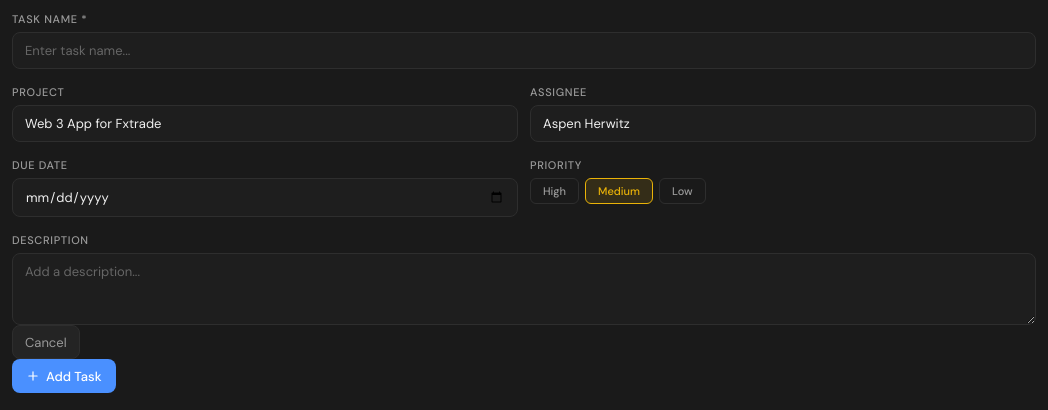
Scenario: AddTaskModal — reset-on-close when the modal DOM never unmounts › resets the form when closed and immediately reopened for the same create target
Type "Draft that should not persist" into the field labelled "Task Name *" at (524, 50), box [12, 32, 1036, 69]
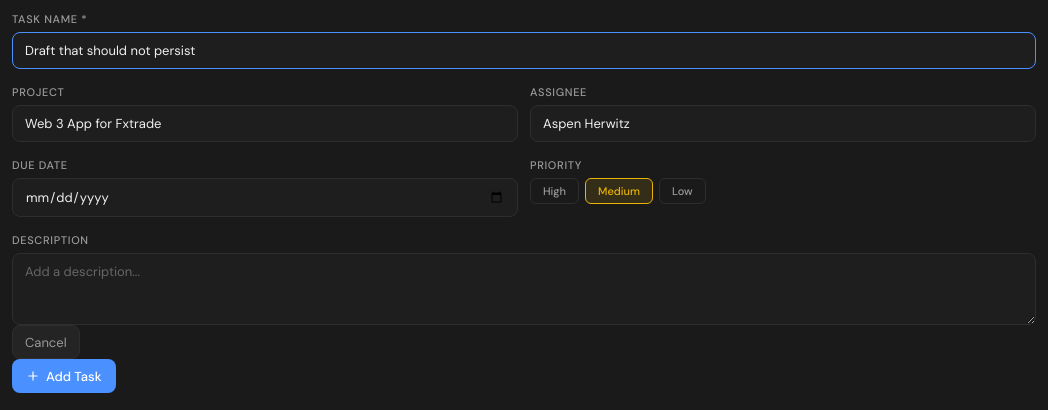
Click the button "High" at (555, 191), box [530, 178, 579, 204]
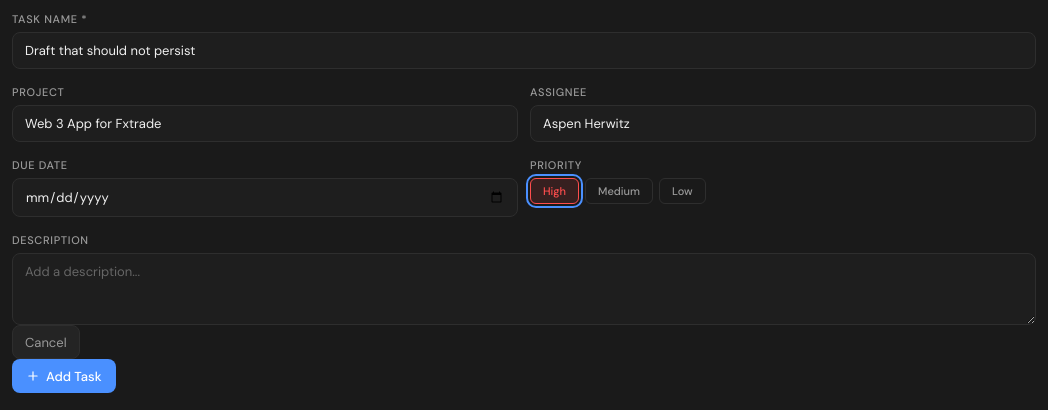
Click the button "Cancel" at (46, 342), box [12, 325, 80, 359]
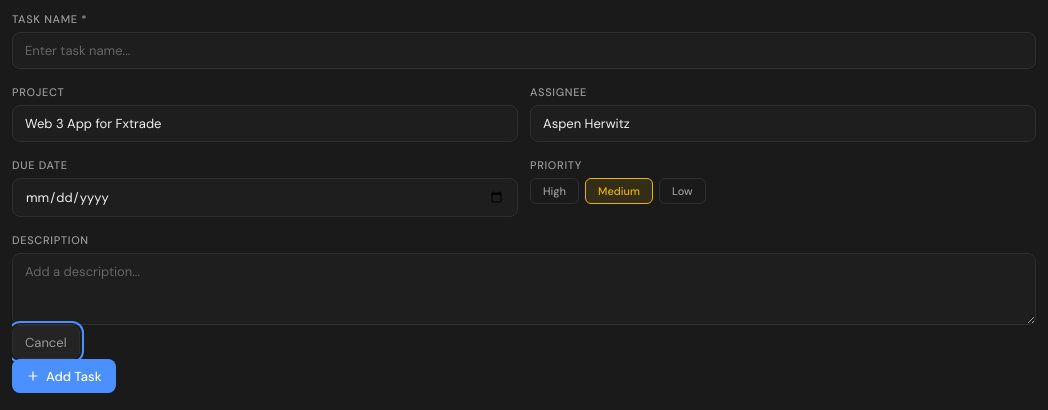
Expected: the field labelled "Task Name *" is empty, [12, 32, 1036, 69]
